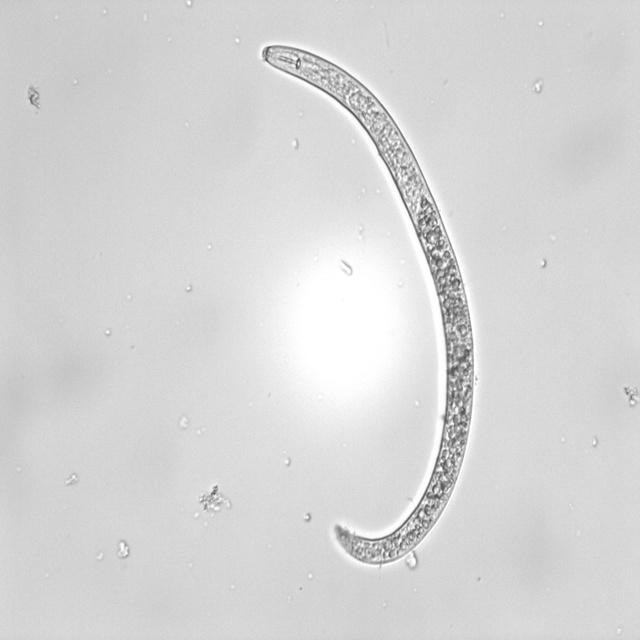Helicotylenchus: (252, 28, 483, 573)
